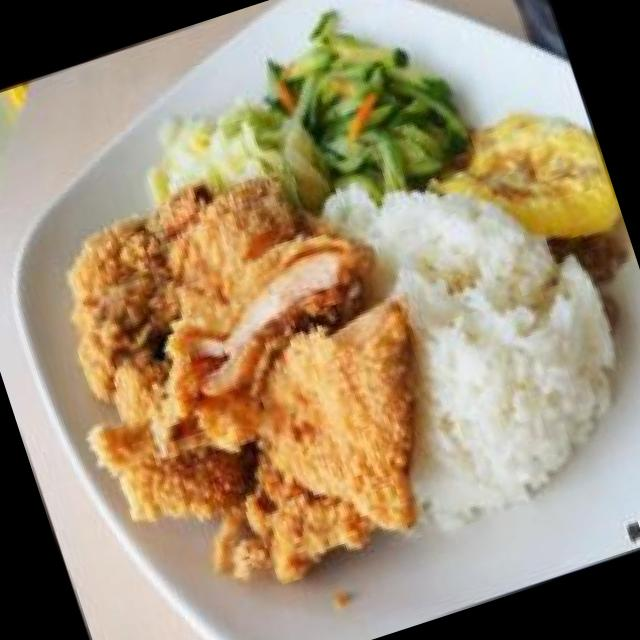rice: (388, 196, 595, 480)
